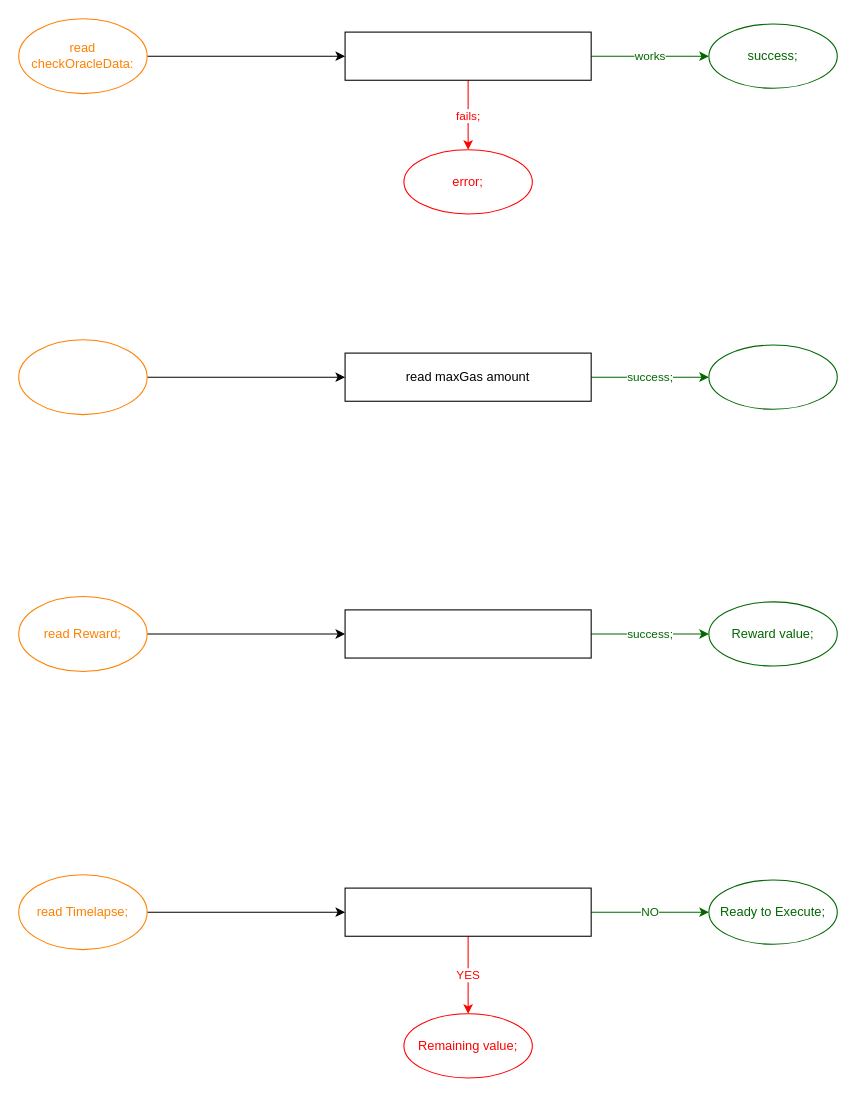
The diagram is 856 pixels wide and 1097 high, and some of its shapes have lost their labels. Here are the shapes that lost their labels. From the top down, the box of each, then its label:
(344, 31, 591, 80): decrypt function
(18, 339, 147, 415): read maxGas;
(708, 344, 837, 409): maxGas value;
(344, 609, 591, 658): read Reward amount
(344, 887, 591, 936): timelapse - (currentTime - timestamp) > 0
